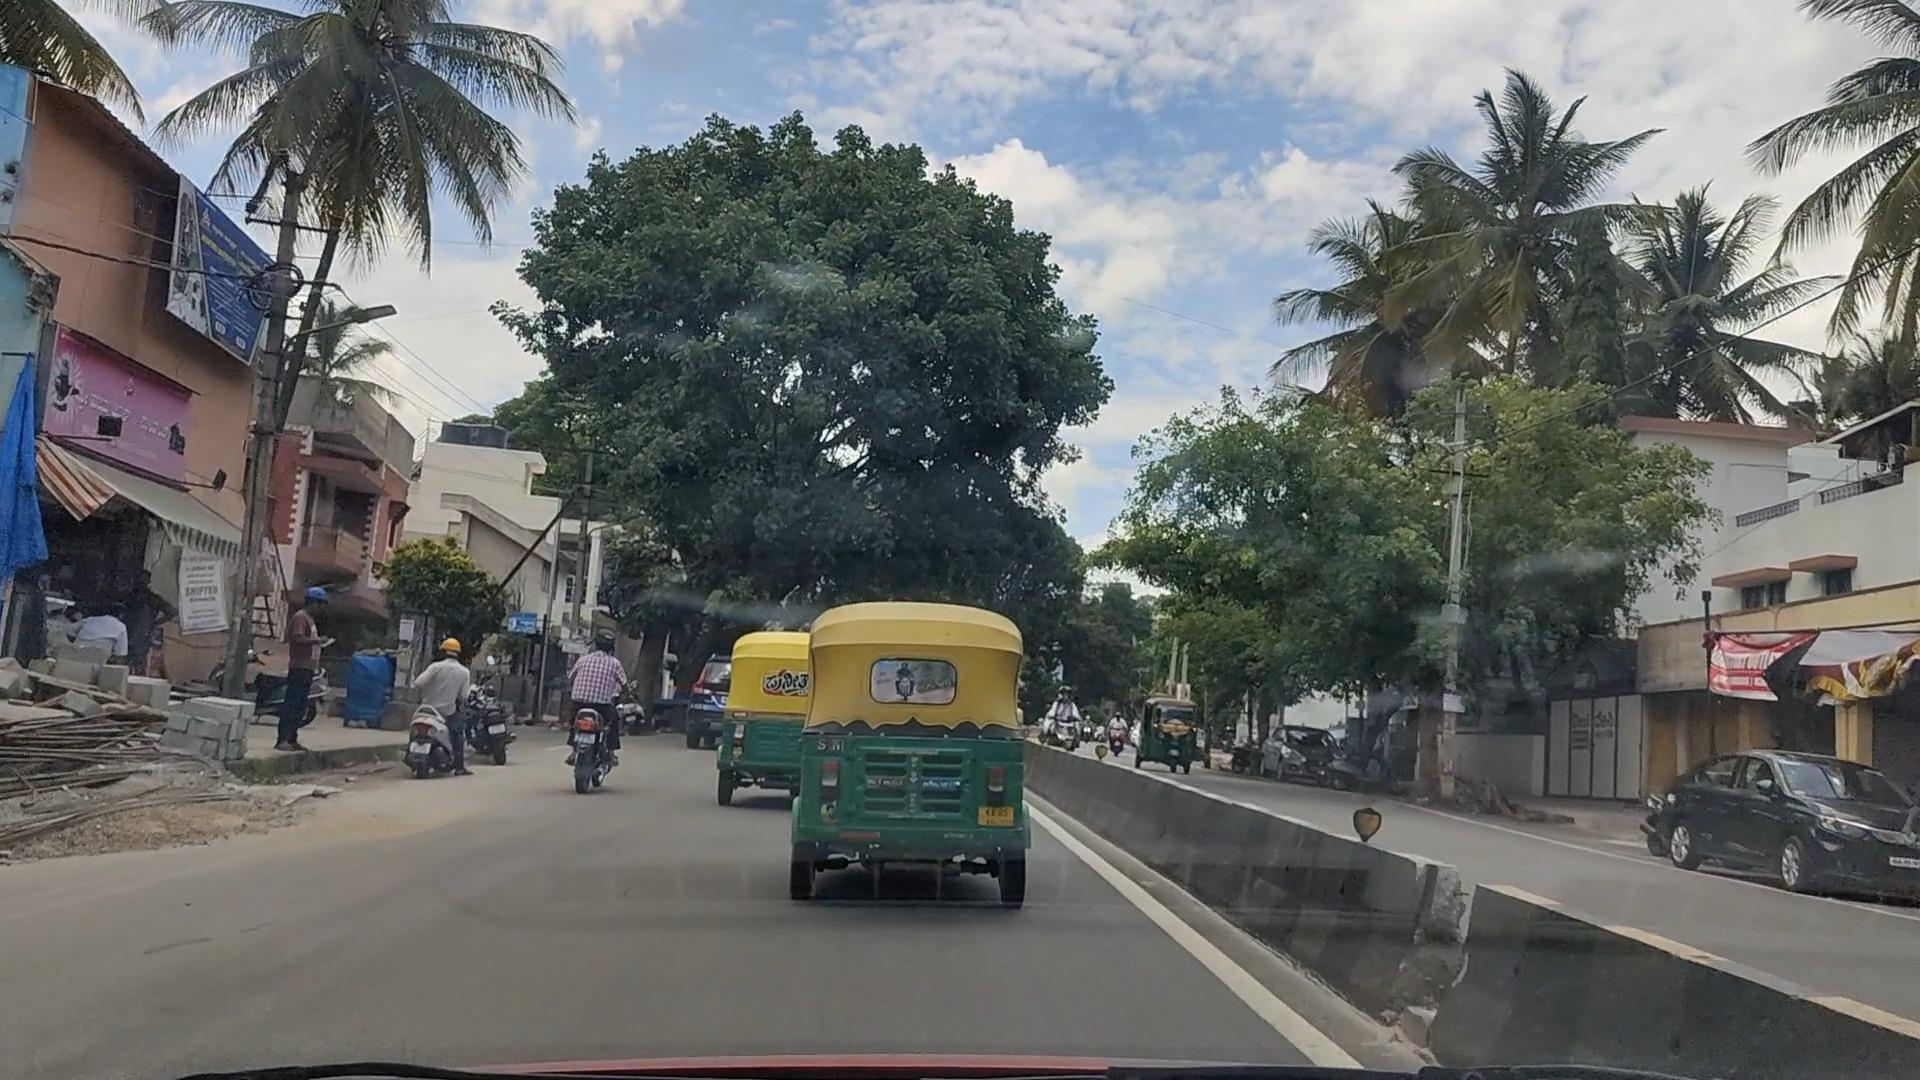LMV: (794, 622, 1033, 902), (559, 605, 641, 815), (736, 638, 819, 793)
